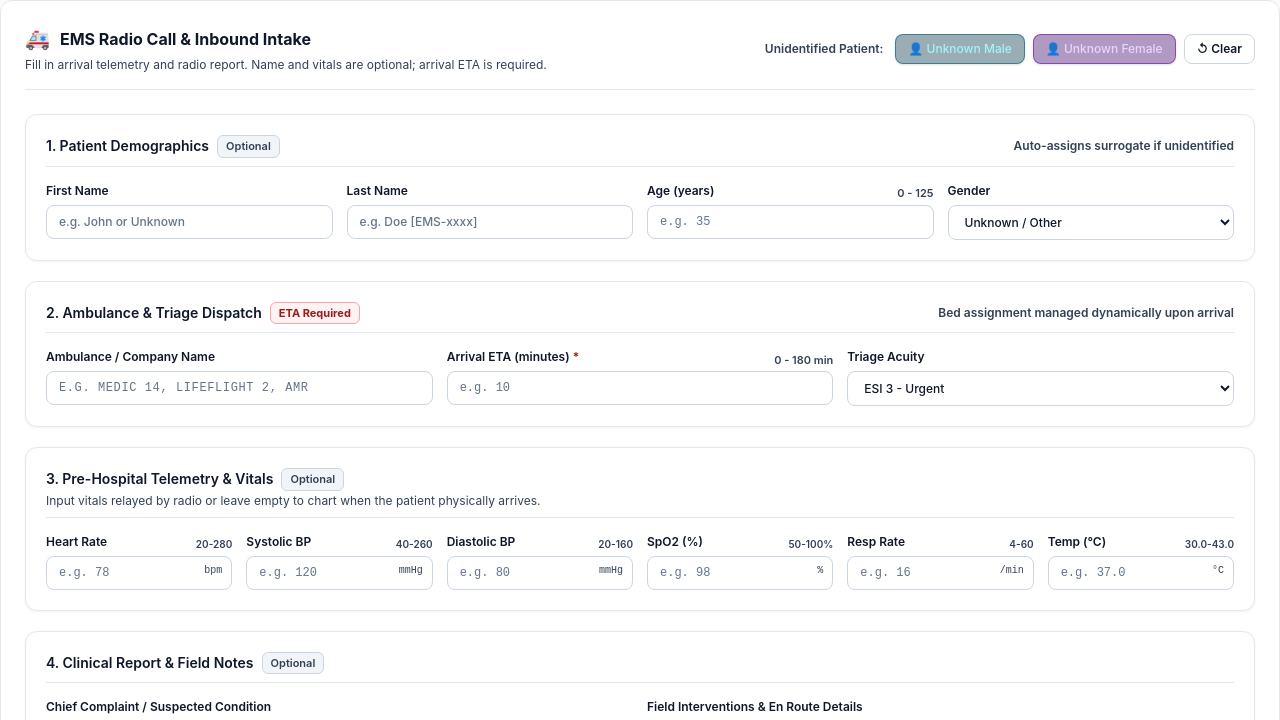
Scenario: EmsIntakeForm Component (TDD Suite) › autopopulates John Doe surrogate data and default ETA when "Unknown Male" is clicked
The width and height of the screenshot is (1280, 720).
Click the button "👤 Unknown Male" at (960, 49), box [895,34,1025,64]
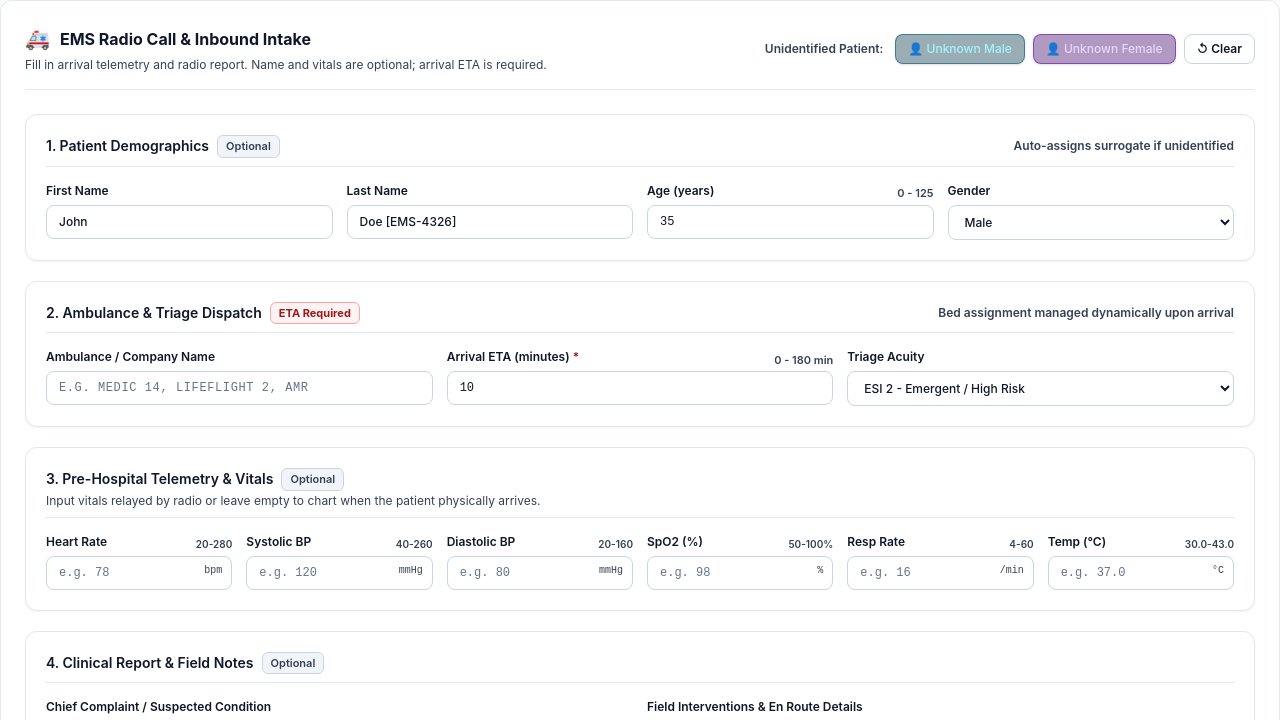
Now the field labelled "First Name" holds "John", box [46,204,332,238]
Now the number field labelled "Age (years)" holds "35", box [647,204,934,238]
Now the dropdown labelled "Gender" shows "Male", box [948,204,1234,240]
